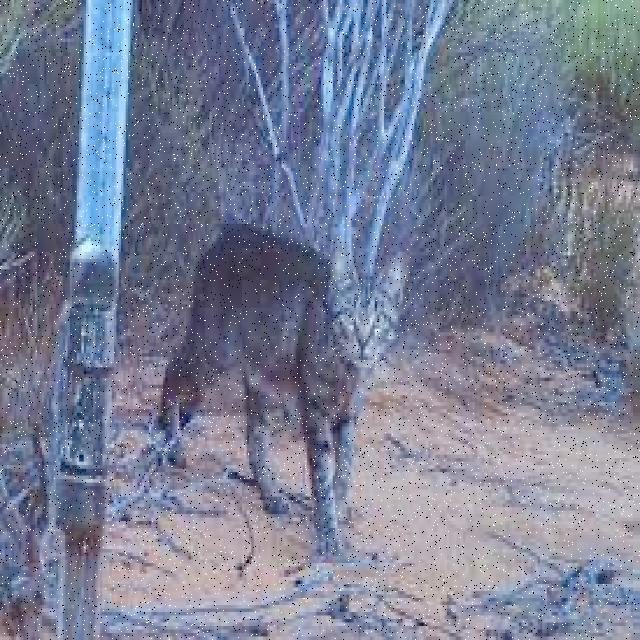cat: (165, 225, 403, 555)
